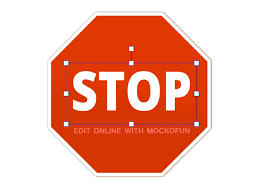stop sign: (49, 11, 210, 176)
